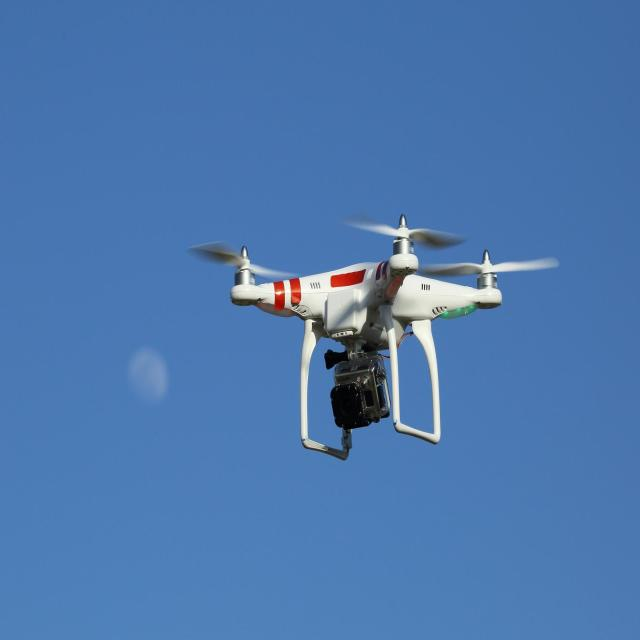drone: (186, 211, 559, 461)
